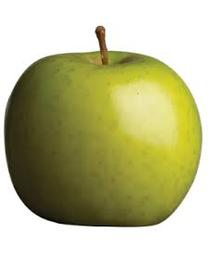apple: (3, 26, 202, 226)
